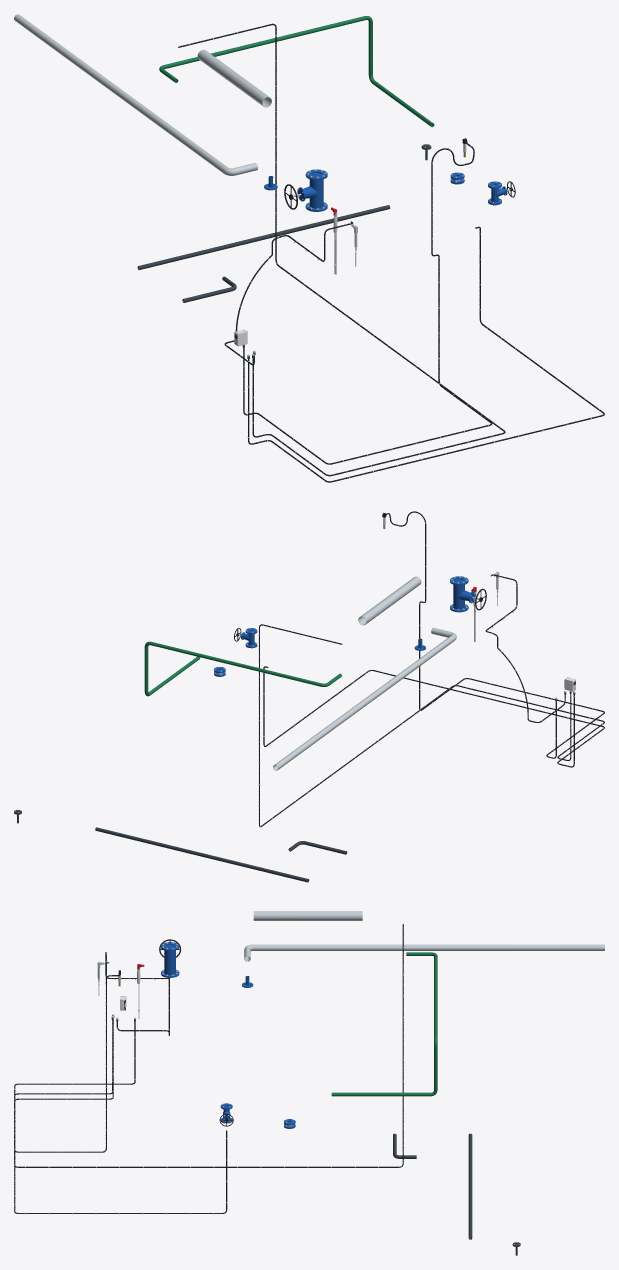
3 views of the same model, one above another, from view 1: azimuth 30°, elevation 25°; view 2: azimuth 150°, elevation 25°; view 3: azimuth 270°, elevation 25° (orthographic). The views are drawn at different scales.
Parts seen in each view (by area): view 1: safety_vent_2 / steel, mod_eco_drive_cable / black, to_direct / green, wiring_pump_1 / black, wiring_pressure_transmitter / black, bottom_discharge / dark, steam_delivery / steel, steam_manual / blue; view 2: safety_vent_2 / steel, to_direct / green, mod_eco_drive_cable / black, wiring_pump_1 / black, wiring_pressure_transmitter / black, bottom_discharge / dark, steam_delivery / steel, steam_manual / blue; view 3: safety_vent_2 / steel, mod_eco_drive_cable / black, to_direct / green, steam_delivery / steel, wiring_pressure_transmitter / black, wiring_pump_1 / black, bottom_discharge / dark, steam_manual / blue.
Boxes of the visible parts, x1=… form: safety_vent_2 / steel: x1=14, y1=14, x2=257, y2=175; mod_eco_drive_cable / black: x1=178, y1=23, x2=505, y2=476; to_direct / green: x1=159, y1=16, x2=434, y2=127; wiring_pump_1 / black: x1=248, y1=226, x2=604, y2=482; wiring_pressure_transmitter / black: x1=243, y1=141, x2=492, y2=464; bottom_discharge / dark: x1=137, y1=205, x2=390, y2=269; steam_delivery / steel: x1=197, y1=49, x2=271, y2=107; steam_manual / blue: x1=297, y1=169, x2=327, y2=211; safety_vent_2 / steel: x1=273, y1=627, x2=456, y2=770; to_direct / green: x1=144, y1=641, x2=341, y2=696; mod_eco_drive_cable / black: x1=259, y1=624, x2=604, y2=827; wiring_pump_1 / black: x1=263, y1=666, x2=604, y2=767; wiring_pressure_transmitter / black: x1=382, y1=511, x2=604, y2=758; bottom_discharge / dark: x1=95, y1=827, x2=309, y2=882; steam_delivery / steel: x1=358, y1=576, x2=421, y2=625; steam_manual / blue: x1=450, y1=576, x2=475, y2=612; safety_vent_2 / steel: x1=244, y1=944, x2=604, y2=961; mod_eco_drive_cable / black: x1=14, y1=924, x2=403, y2=1167; to_direct / green: x1=331, y1=952, x2=437, y2=1096; steam_delivery / steel: x1=253, y1=911, x2=362, y2=920; wiring_pressure_transmitter / black: x1=14, y1=954, x2=135, y2=1152; wiring_pump_1 / black: x1=14, y1=1020, x2=227, y2=1213; bottom_discharge / dark: x1=468, y1=1133, x2=472, y2=1239; steam_manual / blue: x1=161, y1=942, x2=179, y2=977.
Bounding box in the file's own units: 4.96 × 2.95 × 7.03.
